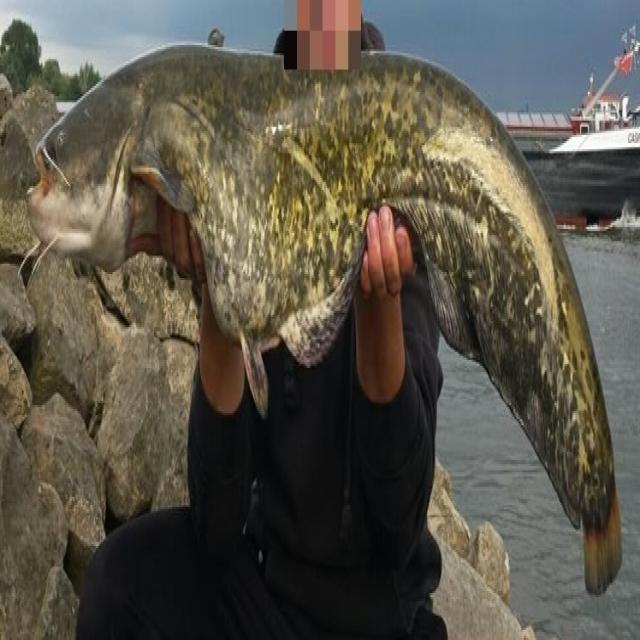Catfish: (29, 34, 628, 608)
